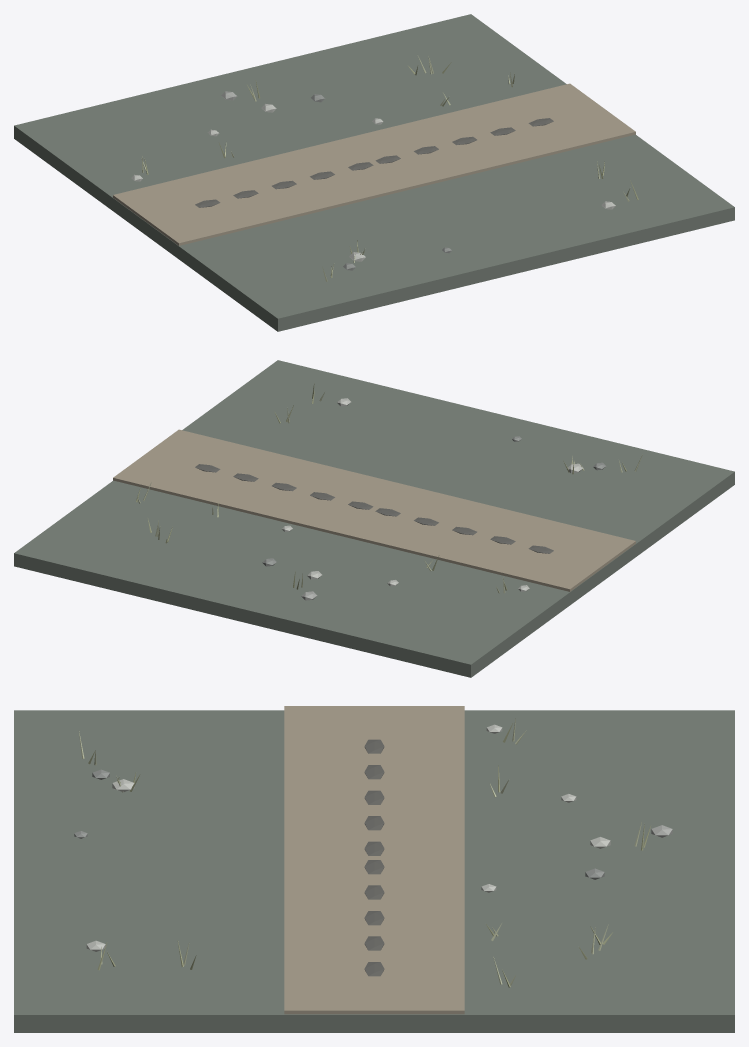
File: path_straight_ew.glb
3 renders of one model, top to bottom at view 1: azimuth 30°, elevation 25°; view 2: azimuth 150°, elevation 25°; view 3: azimuth 270°, elevation 25°, orthographic. The views are drawn at different scales.
Parts seen in each view (by area): view 1: road_material_00, road_material_01, road_material_07; view 2: road_material_00, road_material_01, road_material_07; view 3: road_material_00, road_material_01, road_material_07, road_material_04, road_material_02, road_material_03.
Part boxes in pixels (<box>): road_material_00: <box>14,14,734,331</box>; road_material_01: <box>113,83,635,245</box>; road_material_07: <box>195,118,553,207</box>; road_material_00: <box>14,360,734,677</box>; road_material_01: <box>113,429,635,591</box>; road_material_07: <box>195,464,553,553</box>; road_material_00: <box>14,710,734,1032</box>; road_material_01: <box>284,706,464,1014</box>; road_material_07: <box>364,739,384,976</box>; road_material_04: <box>86,724,610,951</box>; road_material_02: <box>79,718,641,985</box>; road_material_03: <box>88,723,650,987</box>.
Size of the model in its own units: 8 by 0.5386 by 8.
